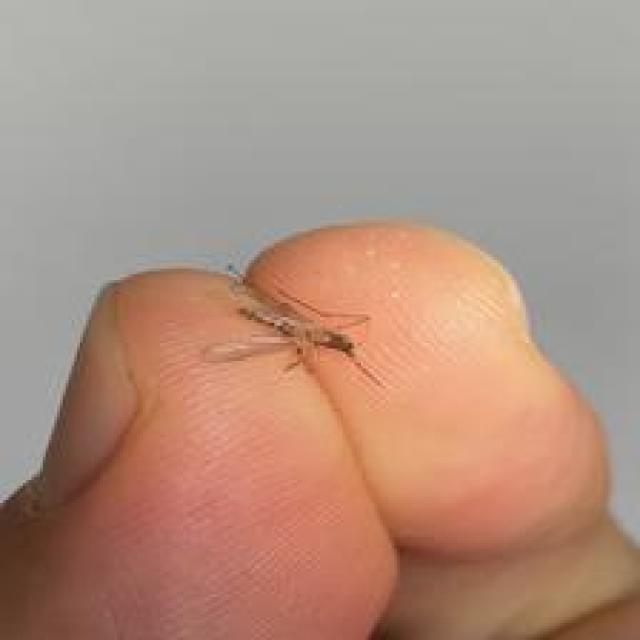Culex: (202, 260, 384, 389)
